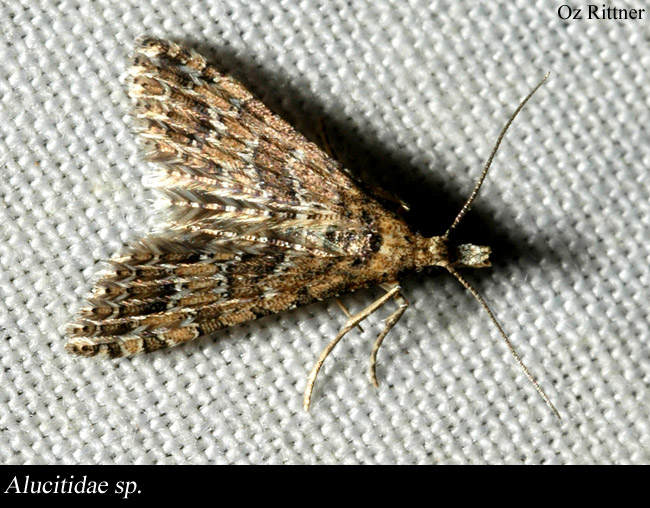Alucitidae: (64, 24, 567, 417)
moth: (62, 22, 565, 415)
